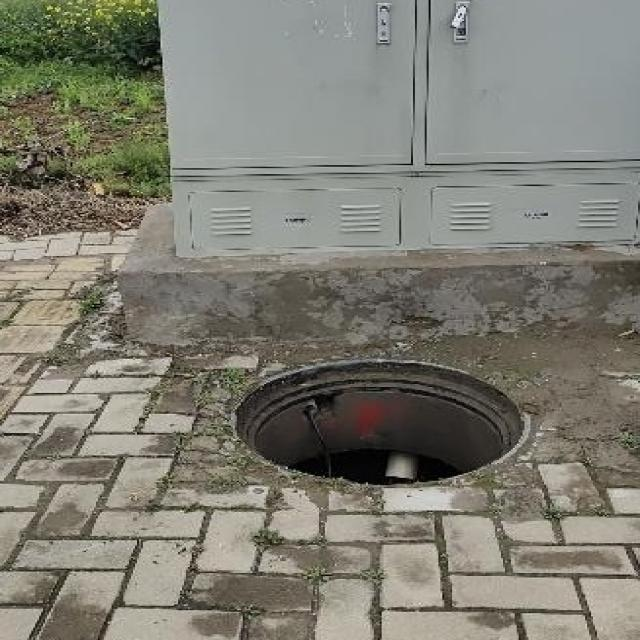Uncovered: (229, 356, 530, 485)
